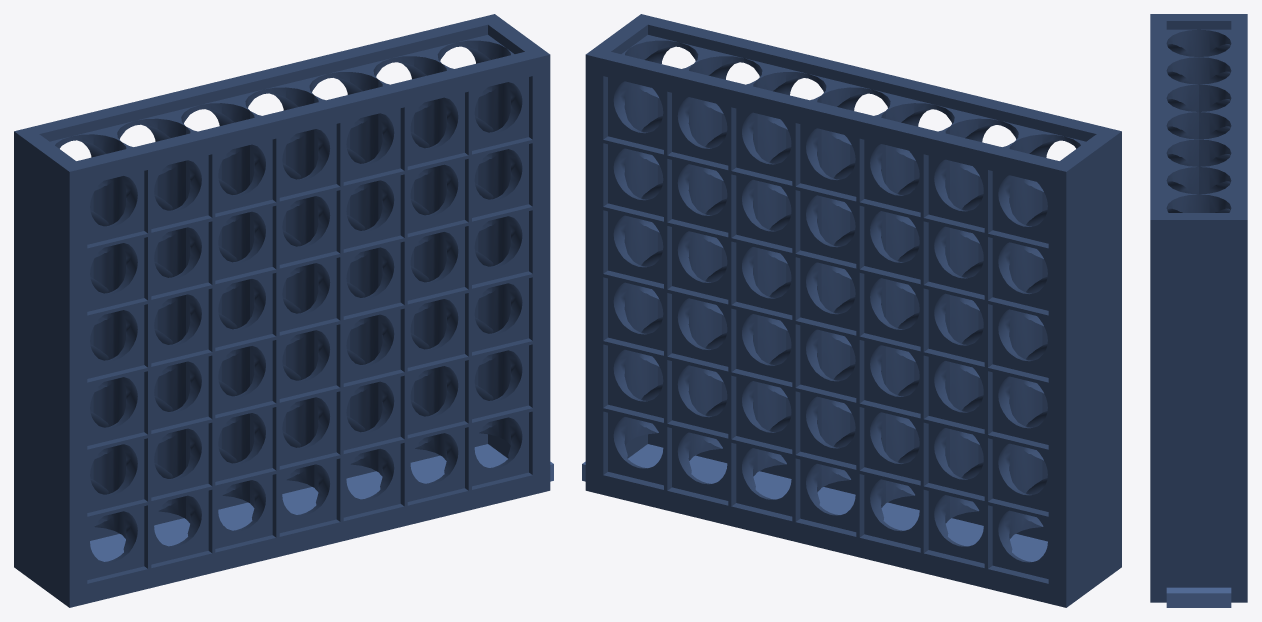
File: 3D_Connect4.fbx
3 renders of one model, left to right at view 1: azimuth 30°, elevation 25°; view 2: azimuth 150°, elevation 25°; view 3: azimuth 270°, elevation 25°, orthographic. The views are drawn at different scales.
Visible parts, largest first — view 1: Board, Drop; view 2: Board, Drop; view 3: Board, Drop.
Boxes of the visible parts, bbox=[...] form: Board: bbox=[14, 14, 550, 607]; Drop: bbox=[90, 444, 553, 561]; Board: bbox=[585, 14, 1121, 607]; Drop: bbox=[582, 444, 1047, 561]; Board: bbox=[1150, 14, 1247, 602]; Drop: bbox=[1166, 587, 1231, 607].
Bounding box in the file's own units: 15.4 × 13 × 3.
